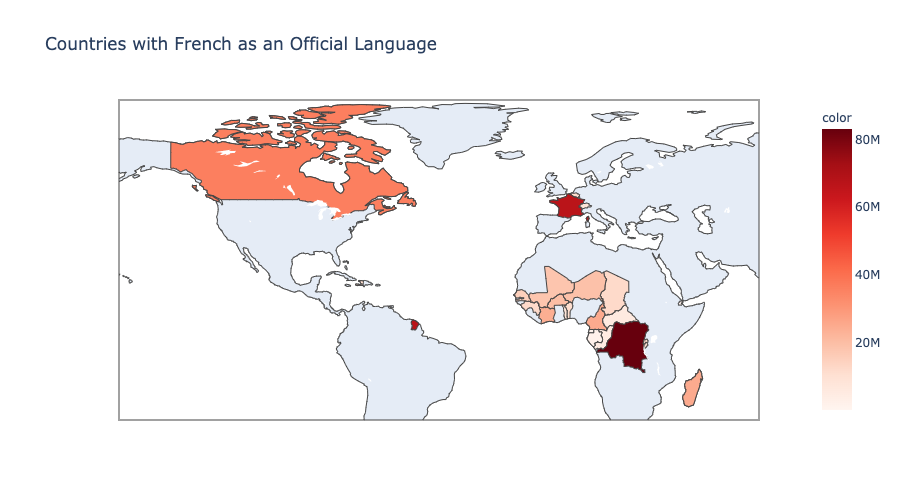

What the dashboard file says about the page in this screenshot:
{"tool":"tableau","page":{"name":"Dashboard 2","canvas":[650,860],"ordinal":1},"visuals":[{"type":"worksheet","title":"Sheet 3","mark":"Multipolygon","box":[8,9.8,474,840.3]},{"type":"legend","title":"Sheet 3","param":"[federated.18ai2ps00hkj1114wkhbp0jn7sxn].[none:CONTINENT:nk]","box":[482,9.8,160,253.4]}]}

Visuals, with their boxes on the page's 650x860 design canvas (x1, y1, x2, y2). These are canvas units, not pixel positions in the 900x500 screenshot, which may show the page scaled, cropped or inside an application window:
"Sheet 3" worksheet (Multipolygon marks): left=8, top=10, right=482, bottom=850
"Sheet 3" legend: left=482, top=10, right=642, bottom=263
